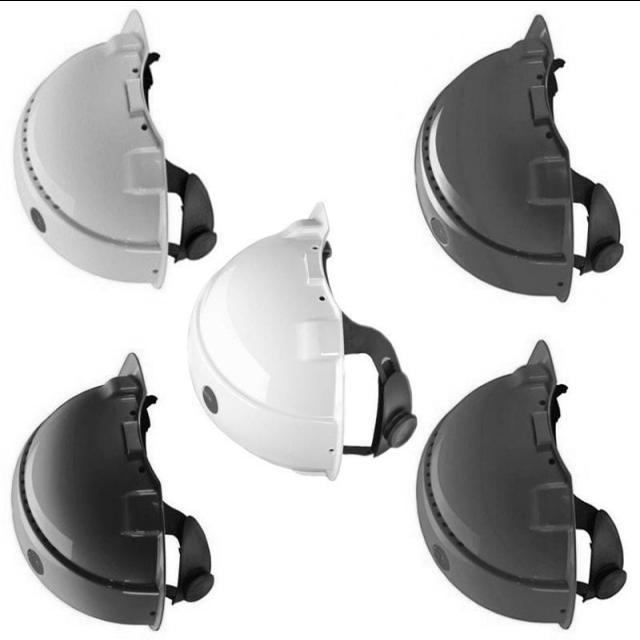safety_helmet: (122, 283, 336, 583), (415, 13, 626, 303), (10, 7, 218, 284), (336, 289, 517, 547), (10, 354, 158, 630)
